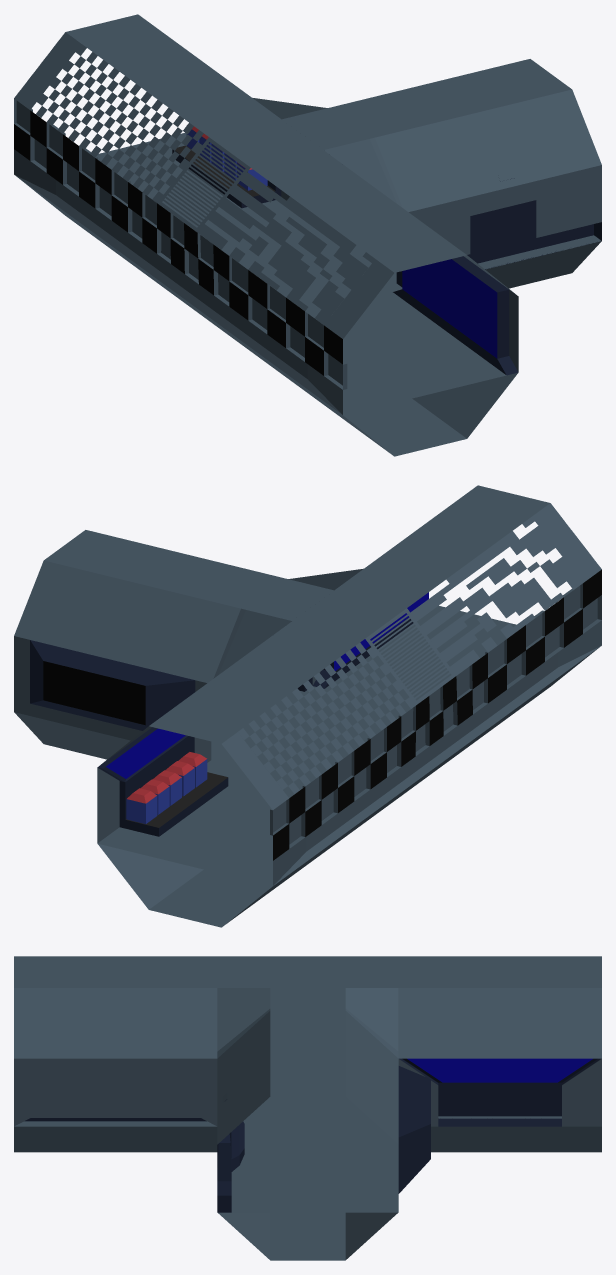
The model's file is t_rdy_c.obj.
3 views of the same model, one above another, from view 1: azimuth 30°, elevation 25°; view 2: azimuth 150°, elevation 25°; view 3: azimuth 270°, elevation 25° (orthographic). The views are drawn at different scales.
Visible parts, largest first — view 1: t_Cylinder.002; view 2: t_Cylinder.002; view 3: t_Cylinder.002.
Part boxes in pixels (box(x1,y1,x2,y2)): t_Cylinder.002: box(14, 14, 601, 456); t_Cylinder.002: box(14, 485, 601, 927); t_Cylinder.002: box(14, 956, 601, 1260).
Bounding box in the file's own units: 3.92 × 1.85 × 6.
